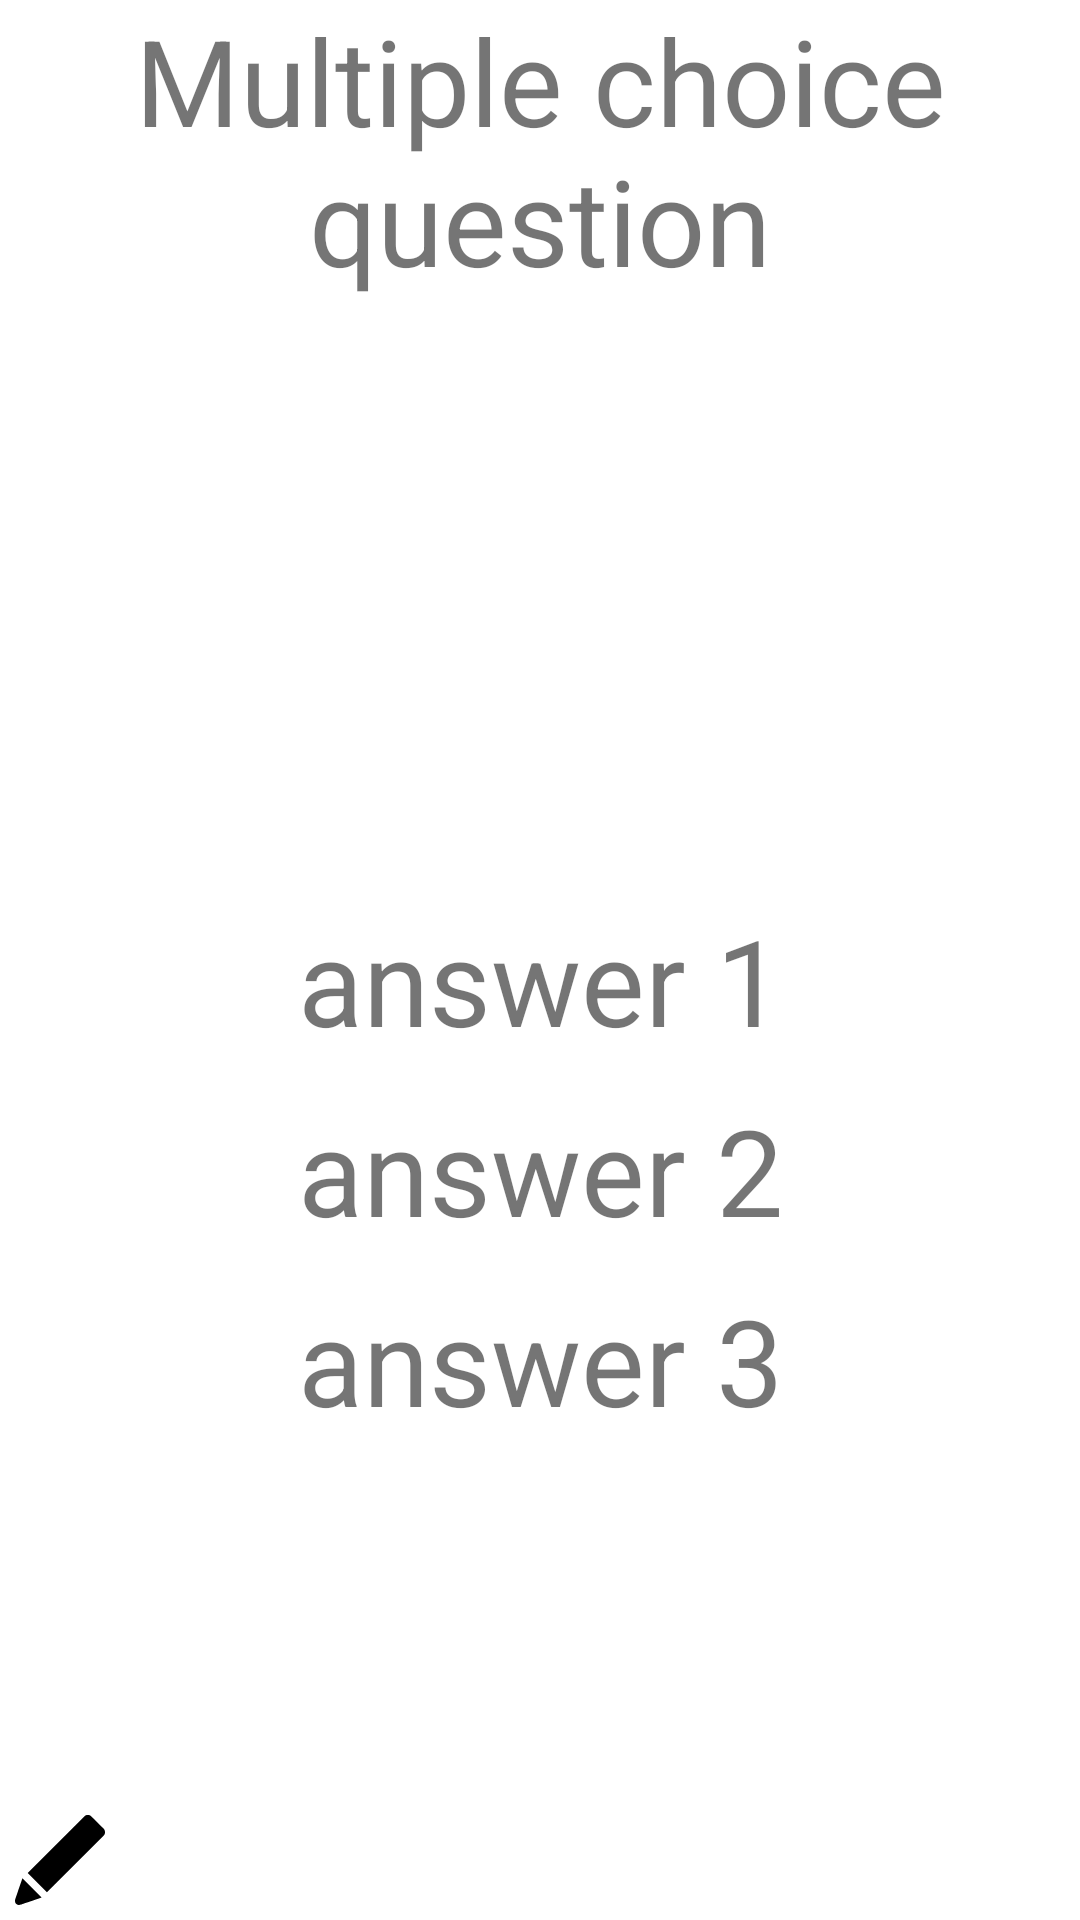

Screen size 1080 × 1920. Icon name, then its center in pixels as (x=x, y=y):
edit question: (x=60, y=1860)
